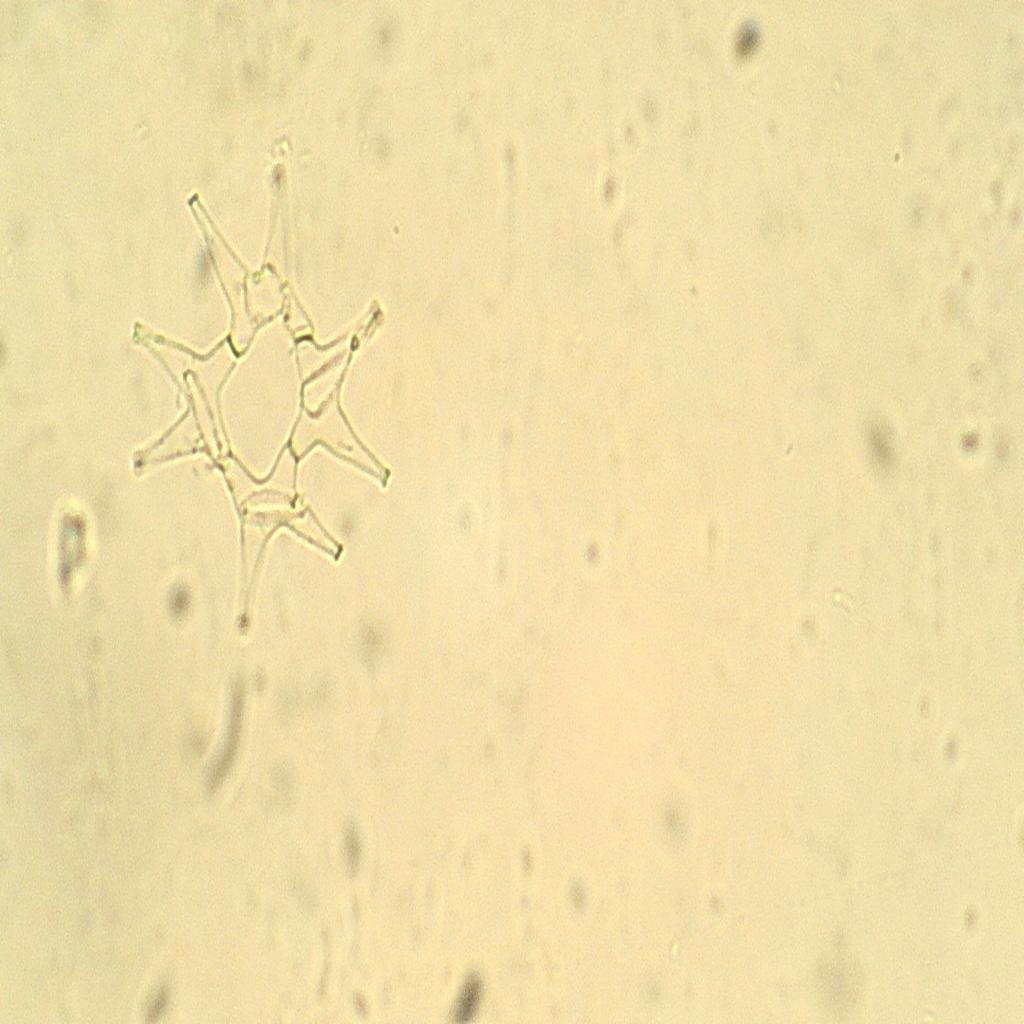Pediastrum_75TH: (109, 134, 412, 670)
